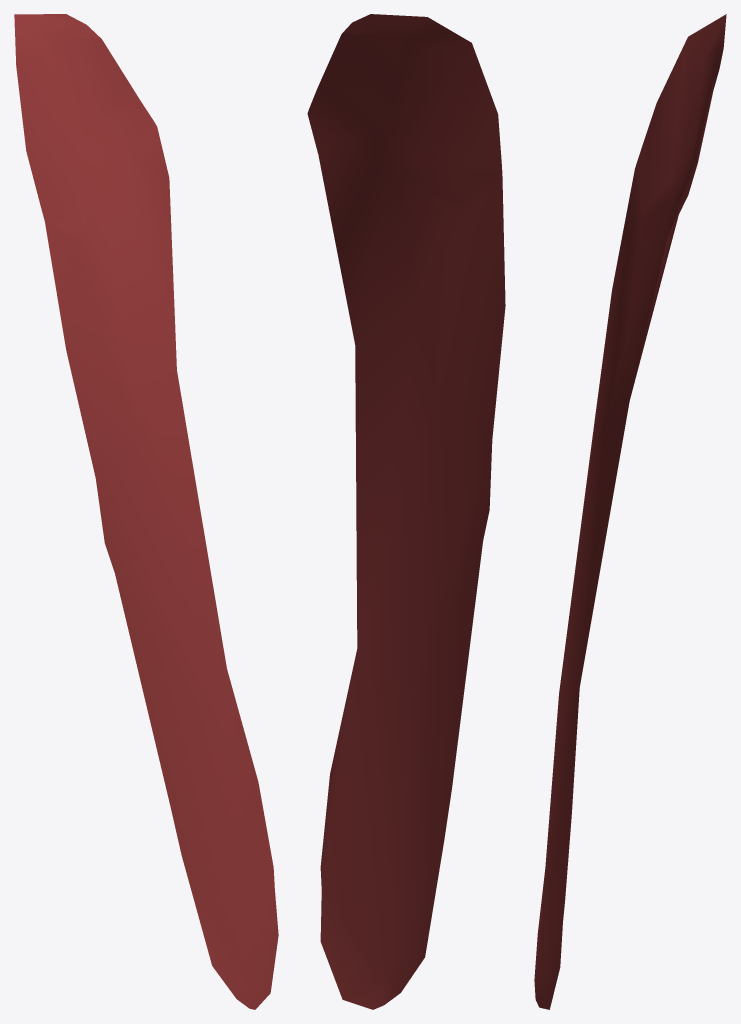
The model's file is gluteus-maximus-muscle-er.glb.
The picture shows the model from 3 angles, left to right: view 1: azimuth 30°, elevation 25°; view 2: azimuth 150°, elevation 25°; view 3: azimuth 270°, elevation 25°; orthographic projection. The views are drawn at different scales.
Visible parts, largest first — view 1: Gluteus maximus muscle.er; view 2: Gluteus maximus muscle.er; view 3: Gluteus maximus muscle.er.
Part boxes in pixels (x1=…): Gluteus maximus muscle.er: x1=14, y1=14, x2=278, y2=1009; Gluteus maximus muscle.er: x1=307, y1=14, x2=505, y2=1009; Gluteus maximus muscle.er: x1=534, y1=14, x2=726, y2=1009.
Size of the model in its own units: 0.0178 by 0.0806 by 0.0152.
